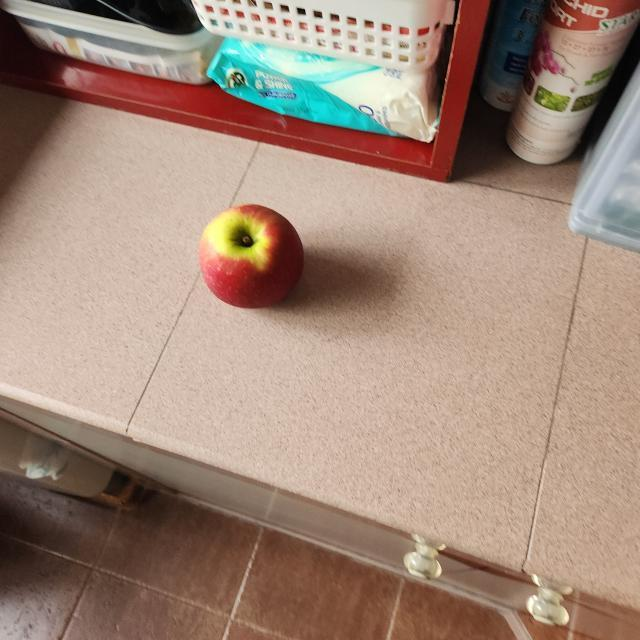apple: (195, 199, 312, 319)
